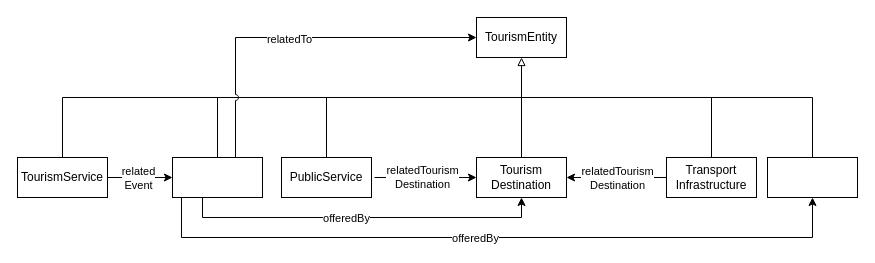
This 875x263 diagram has some shape labels left out. Each missing label, with the centre of its shape:
Event: point 217,177
Tourism Organization: point 812,177
